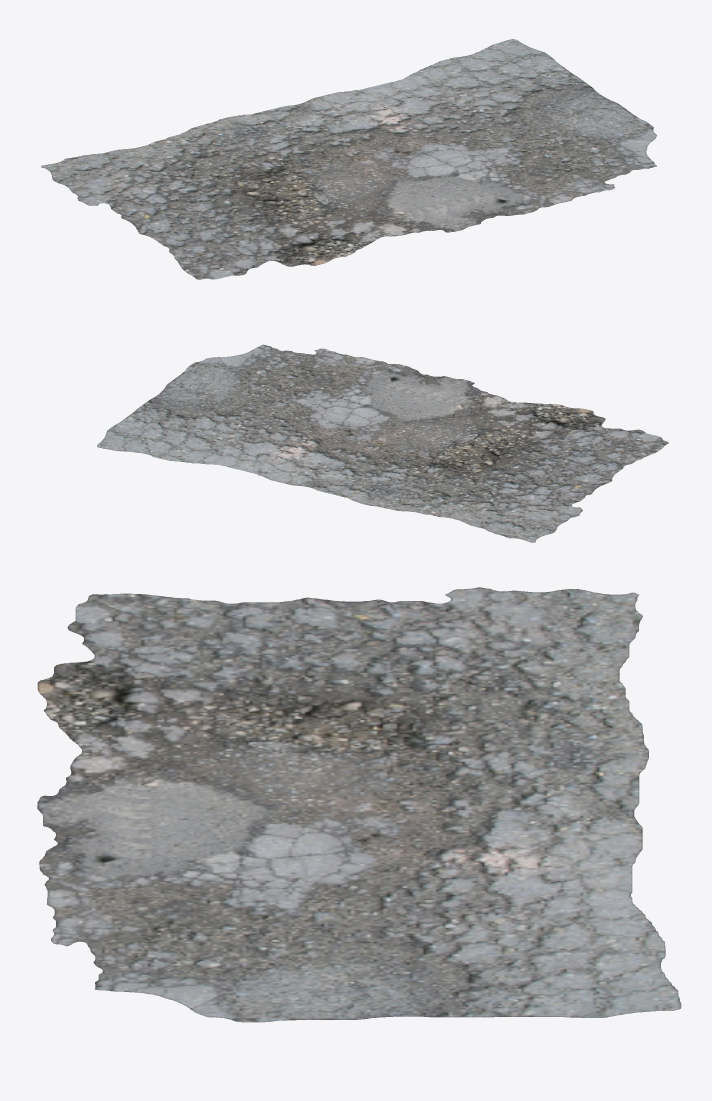
Rendered from HH_Decal_Asphalt_04.fbx.
3 renders of one model, top to bottom at view 1: azimuth 30°, elevation 25°; view 2: azimuth 150°, elevation 25°; view 3: azimuth 270°, elevation 25°, orthographic. The views are drawn at different scales.
Parts seen in each view (by area): view 1: HH_Decal_Asphalt_04; view 2: HH_Decal_Asphalt_04; view 3: HH_Decal_Asphalt_04.
Boxes of the visible parts, x1,y1,x2,y2 form: HH_Decal_Asphalt_04: (41, 39, 656, 279); HH_Decal_Asphalt_04: (97, 344, 668, 542); HH_Decal_Asphalt_04: (37, 587, 681, 1022).
Bounding box in the file's own units: 257 × 0 × 147.
